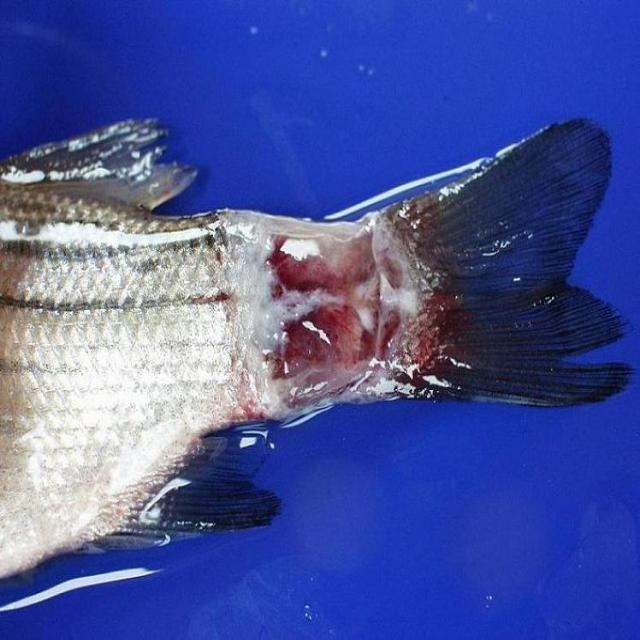EUS Disease: (2, 119, 626, 586), (203, 181, 531, 473)
